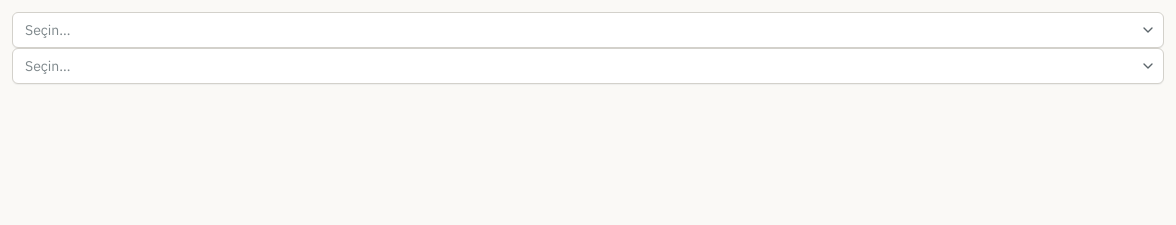
selects › filters tax codes by effective date, default today
Click the dropdown named "Bugün" at (588, 30), box [12, 12, 1164, 48]
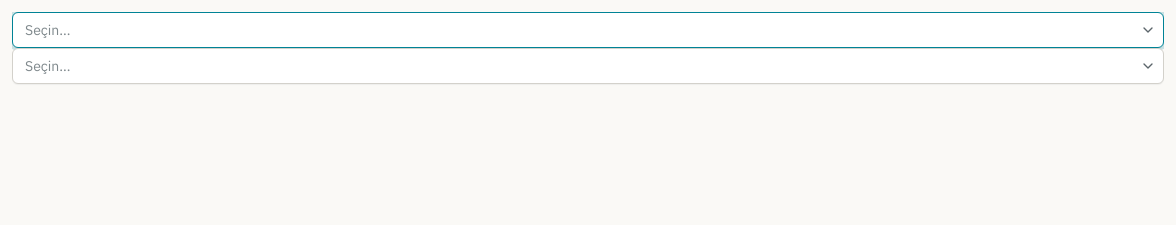
Press Arrowdown
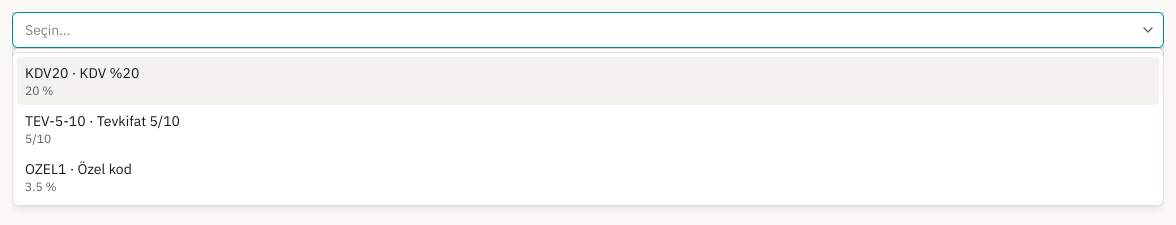
Expected: the option "KDV18" is not shown
Result: the option "KDV20 · KDV %20 20 %" is shown at [17, 57, 1159, 105]
Press Escape
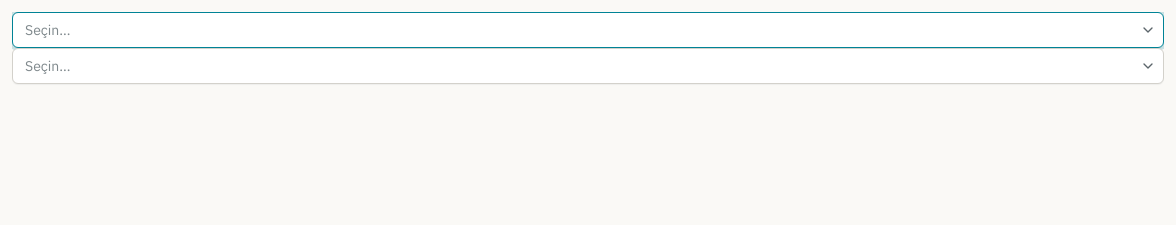
Click the dropdown named "Eski" at (588, 66), box [12, 48, 1164, 84]
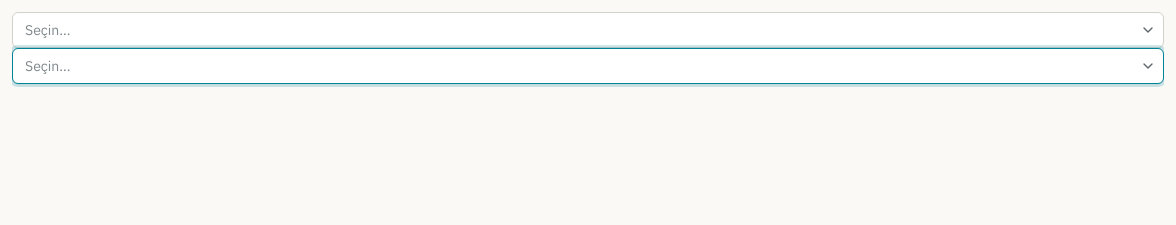
Press Arrowdown
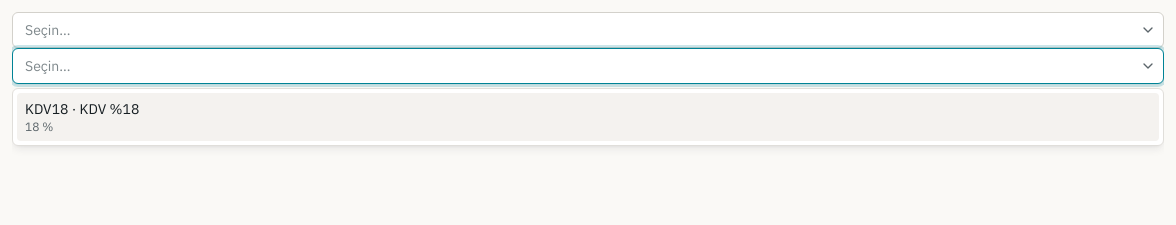
Expected: the option "KDV20" is not shown
Result: the option "KDV18 · KDV %18 18 %" is shown at [17, 93, 1159, 141]
